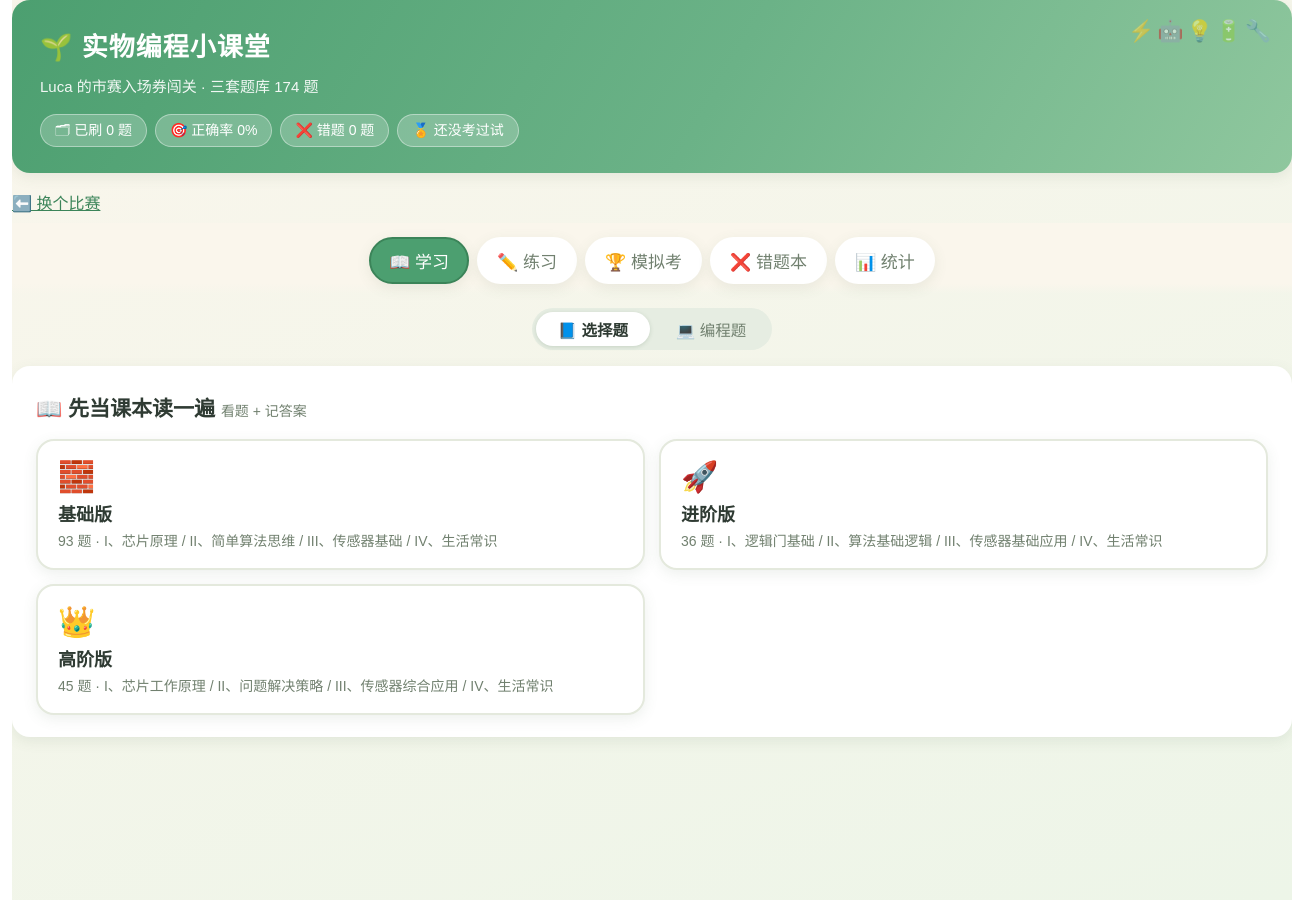
it: AI 编程题子模块（挂在各 tab 下） › 学习页：切换编程题可见 10 个任务及考察重点
This screenshot has width=1292, height=900.
What coordinates should you click on to do the following:
click the tab "💻 编程题"
I would click on:
 (711, 329)
Its box is x1=654 y1=312 x2=768 y2=346.
(page scrolled)
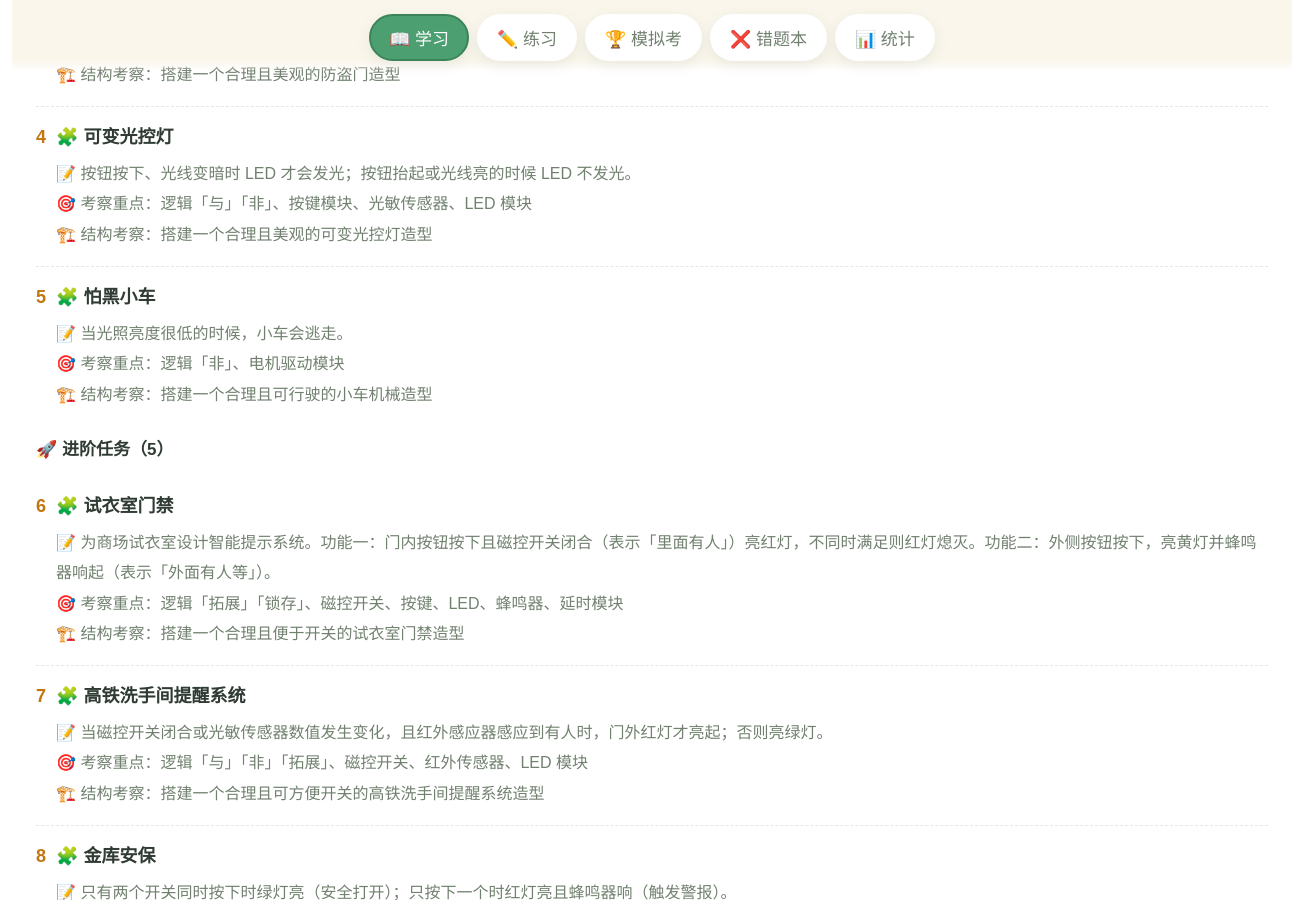
Result: the text "🧩 可变光控灯" is shown at x1=56 y1=127 x2=174 y2=147
Result: the text "🧩 怕黑小车" is shown at x1=56 y1=287 x2=156 y2=307
Result: the text "🧩 试衣室门禁" is shown at x1=56 y1=496 x2=174 y2=516
